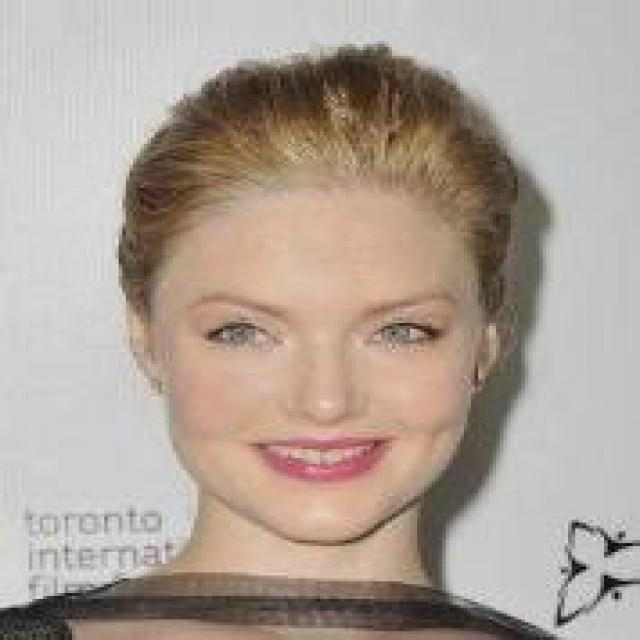nomask: (97, 73, 514, 511)
